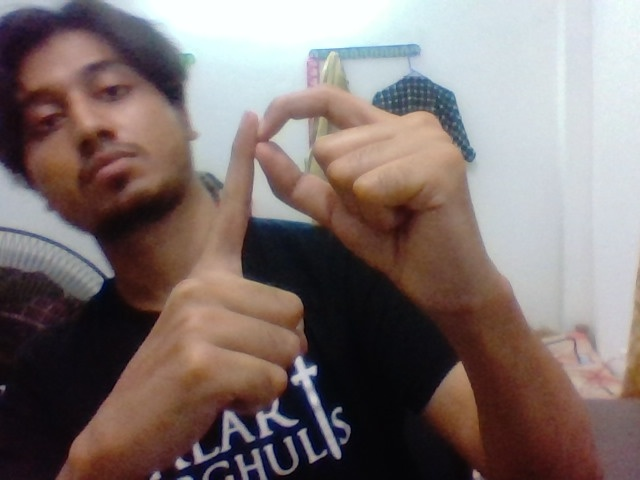P: (210, 68, 461, 397)
